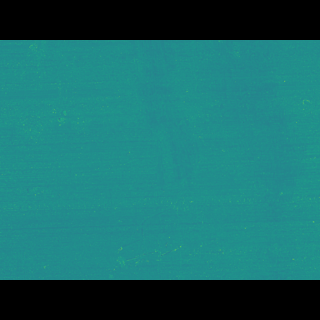Loch: (115, 70, 320, 194), (98, 192, 199, 250)
